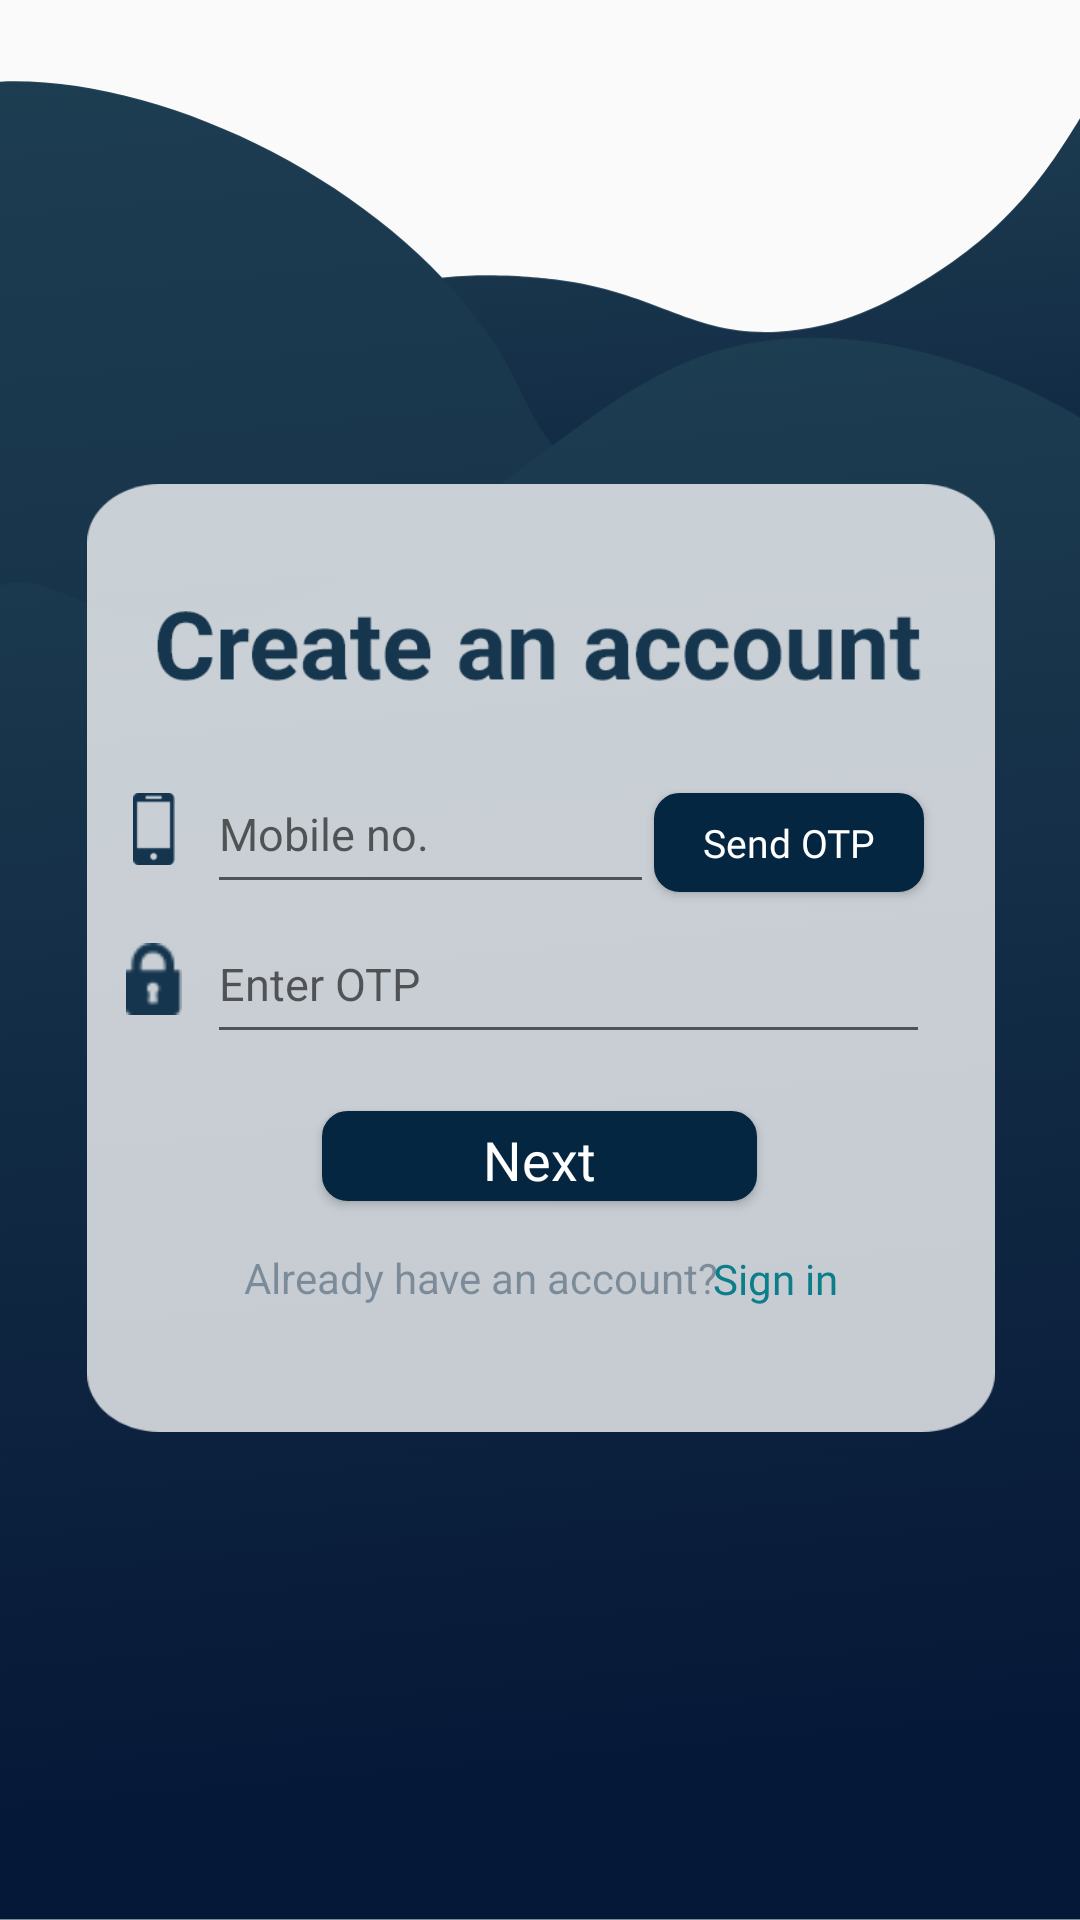

Locate icon controls on the screen. Image size 1080w x 1920h, boxes as (x1, y1, x2, y2).
pass: (126, 943, 182, 1015)
smartphone: (133, 793, 175, 865)
